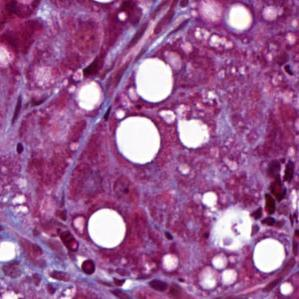inflammation: (249, 155, 299, 236), (76, 251, 99, 278)
